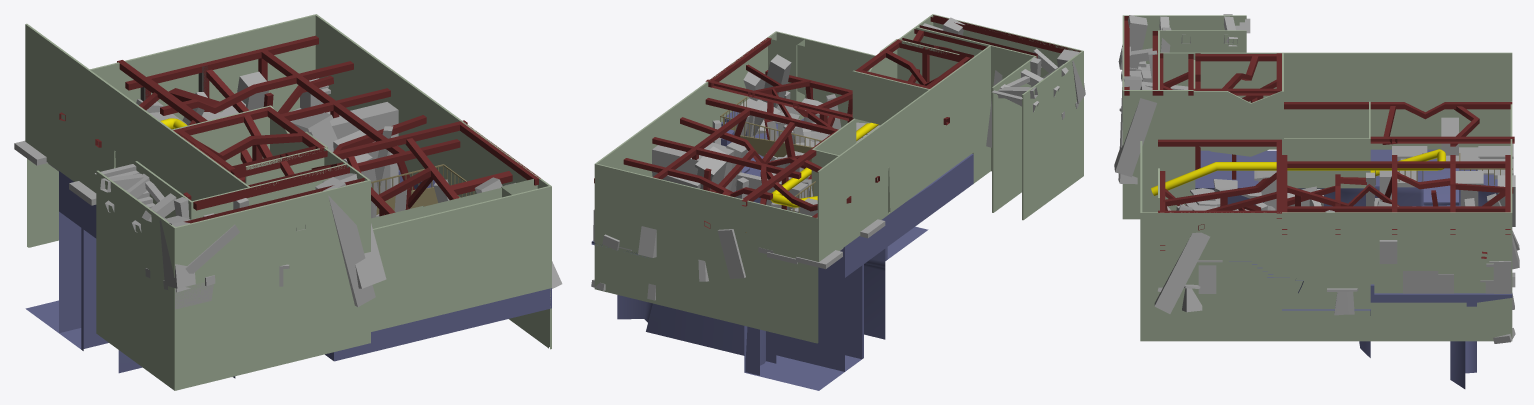
The model's file is Nivel4Emblocado.fbx.
3 views of the same model, side by side, from view 1: azimuth 30°, elevation 25°; view 2: azimuth 150°, elevation 25°; view 3: azimuth 270°, elevation 25° (orthographic). The views are drawn at different scales.
Parts seen in each view (by area): view 1: Paredes, viga, protu_suelo, polySurface435, polySurface439, polySurface434, polySurface467, Hueco, polySurface437, Escalera, polySurface466, polySurface451 (+1 smaller); view 2: Paredes, viga, protu_suelo, polySurface434, polySurface435, polySurface438, polySurface437, Hueco, polySurface440, Tubo, Base_Baranda, polySurface451; view 3: Paredes, viga, protu_suelo, polySurface434, Tubo, polySurface466, polySurface436, Hueco, polySurface438, polySurface435, polySurface451, polySurface467 (+1 smaller).
Part boxes in pixels (left/top/right/bottom): Paredes: left=25, top=14, right=551, bottom=390; viga: left=59, top=35, right=540, bottom=223; protu_suelo: left=14, top=65, right=562, bottom=288; polySurface435: left=59, top=171, right=104, bottom=349; polySurface439: left=325, top=208, right=551, bottom=361; polySurface434: left=81, top=198, right=235, bottom=378; polySurface467: left=315, top=177, right=375, bottom=306; Hueco: left=371, top=179, right=537, bottom=228; polySurface437: left=25, top=212, right=80, bottom=332; Escalera: left=95, top=164, right=213, bottom=309; polySurface466: left=322, top=173, right=386, bottom=288; polySurface451: left=159, top=215, right=195, bottom=288; Paredes: left=594, top=14, right=1083, bottom=343; viga: left=594, top=15, right=1080, bottom=228; protu_suelo: left=591, top=54, right=885, bottom=300; polySurface434: left=845, top=153, right=973, bottom=359; polySurface435: left=776, top=236, right=862, bottom=371; polySurface438: left=617, top=295, right=776, bottom=375; polySurface437: left=744, top=247, right=844, bottom=390; Hueco: left=768, top=39, right=869, bottom=127; polySurface440: left=864, top=226, right=928, bottom=339; Tubo: left=771, top=122, right=878, bottom=207; Base_Baranda: left=730, top=125, right=812, bottom=161; polySurface451: left=1057, top=49, right=1085, bottom=103; Paredes: left=1122, top=15, right=1512, bottom=341; viga: left=1124, top=16, right=1514, bottom=258; protu_suelo: left=1154, top=117, right=1519, bottom=343; polySurface434: left=1195, top=149, right=1423, bottom=206; Tubo: left=1151, top=149, right=1445, bottom=195; polySurface466: left=1114, top=85, right=1156, bottom=177; polySurface436: left=1370, top=284, right=1512, bottom=306; Hueco: left=1141, top=168, right=1159, bottom=293; polySurface438: left=1450, top=341, right=1476, bottom=388; polySurface435: left=1423, top=149, right=1458, bottom=205; polySurface451: left=1118, top=15, right=1147, bottom=69; polySurface467: left=1118, top=76, right=1141, bottom=184.
Bounding box in the file's own units: 21.4 × 14.11 × 22.9.
